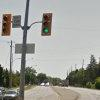Traffic light: (38, 7, 60, 39)
